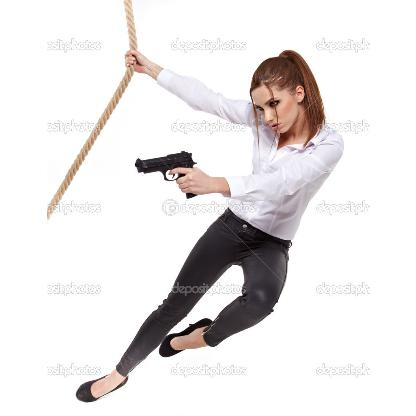gun: (130, 152, 198, 204)
